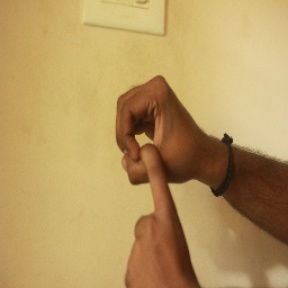Q: (111, 72, 214, 287)
